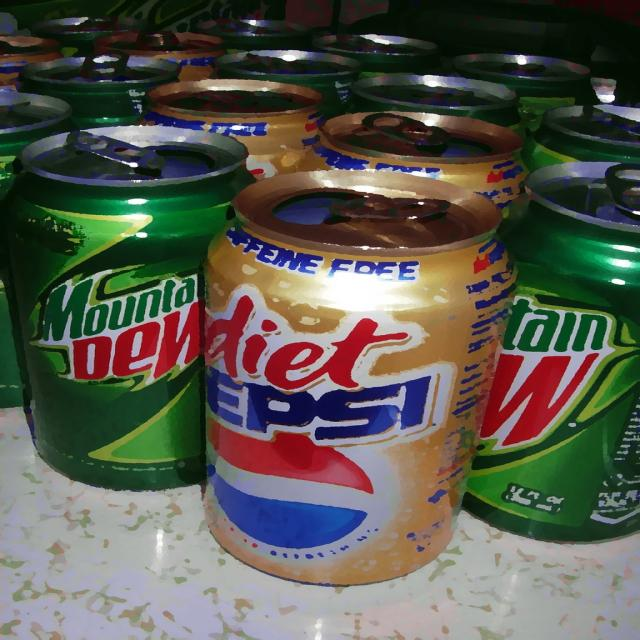pepsi: (207, 431, 378, 549)
